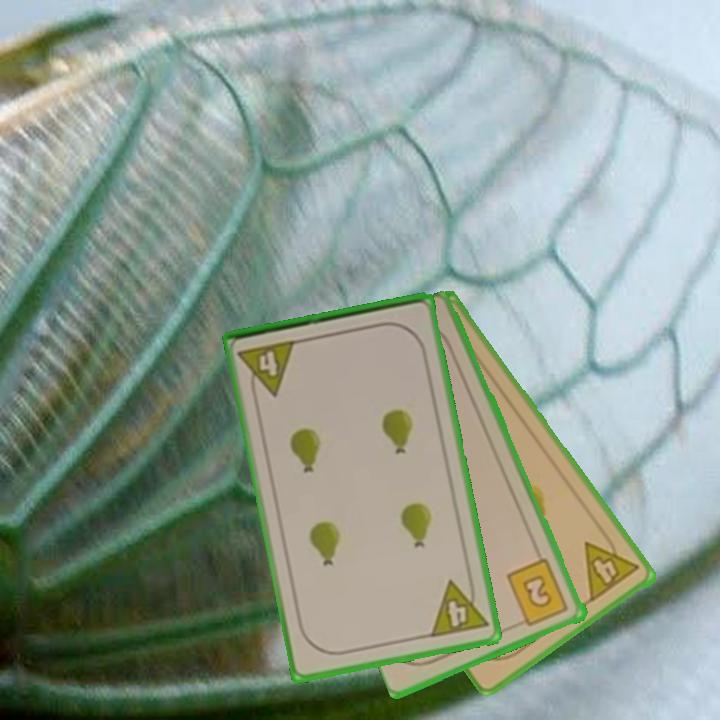2b: (504, 555, 572, 630)
4p: (580, 527, 642, 605), (426, 573, 491, 641), (235, 336, 299, 402)
